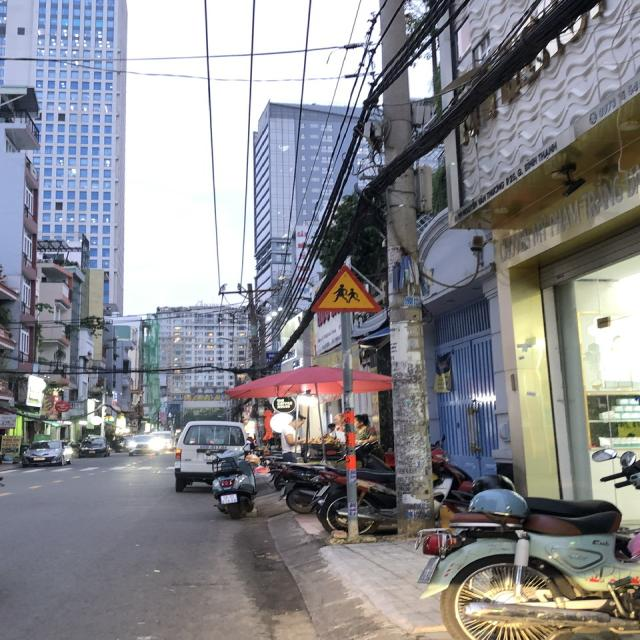Bien bao tre em: (304, 259, 382, 315)
